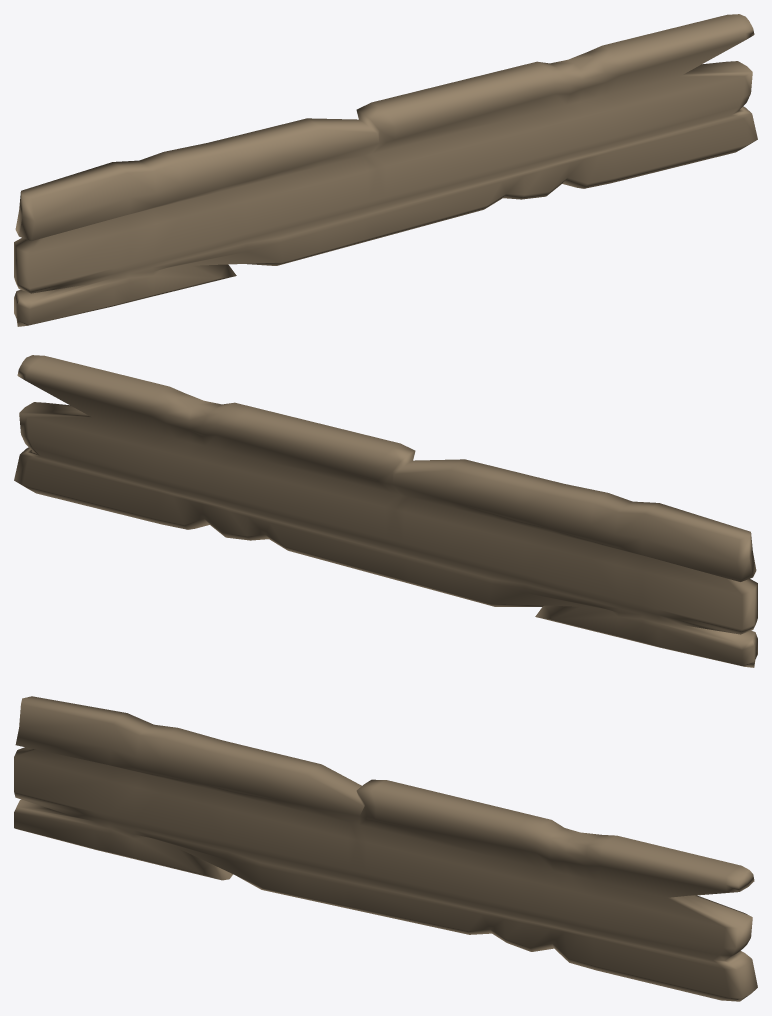
The model's file is plank_mdl_v001.fbx.
The picture shows the model from 3 angles, top to bottom: view 1: azimuth 30°, elevation 25°; view 2: azimuth 150°, elevation 25°; view 3: azimuth 330°, elevation 25°; orthographic projection.
Parts seen in each view (by area): view 1: plank_Geo; view 2: plank_Geo; view 3: plank_Geo.
Boxes of the visible parts, x1,y1,x2,y2 form: plank_Geo: (14,14,757,326); plank_Geo: (14,355,757,667); plank_Geo: (14,696,757,1001).
Size of the model in its own units: 596 by 105 by 27.64.
